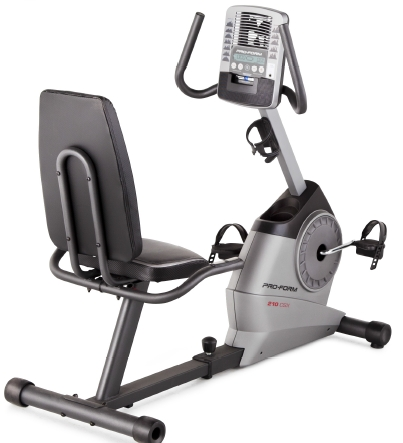gym_bike: (12, 8, 387, 435)
